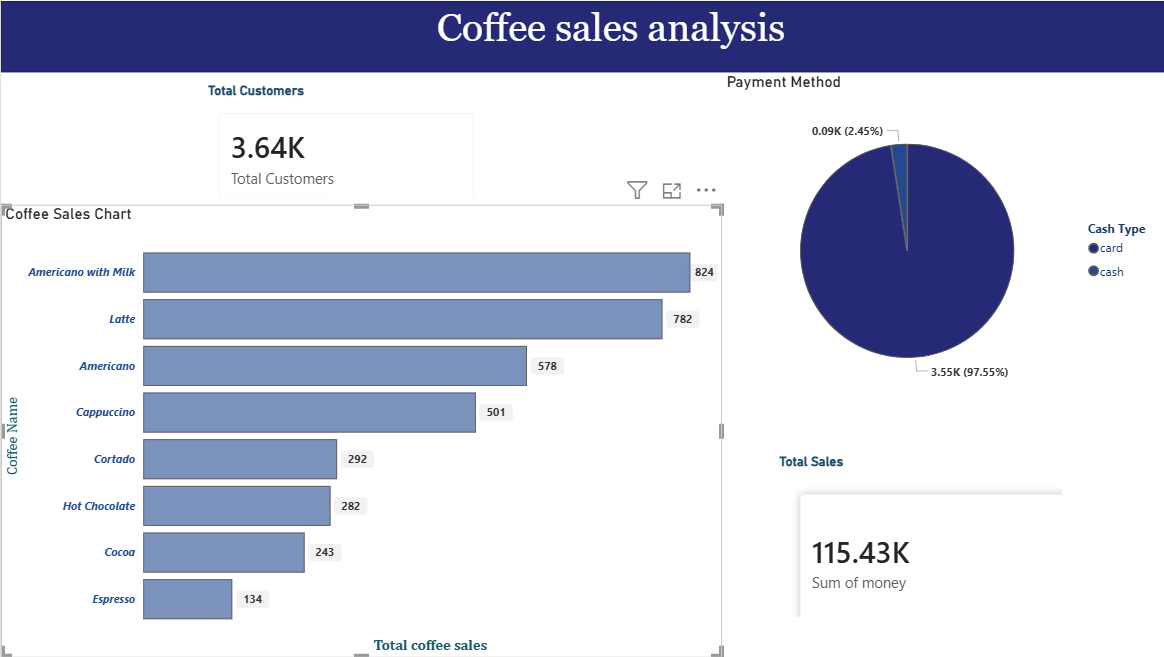

What the dashboard file says about the page in this screenshot:
{"tool":"powerbi","page":{"name":"Page 1","canvas":[1280,720],"ordinal":0},"visuals":[{"type":"cardVisual","title":"Total Customers","fields":{"Data":["coffee shop data.Total Customers"]},"box":[222.3,89.2,314.2,145.5],"z":0},{"type":"clusteredBarChart","title":"Coffee Sales Chart","fields":{"Category":["coffee shop data.coffee_name"],"Y":["CountNonNull(coffee shop data.coffee_name)"]},"box":[0,223.7,791.8,496.7],"z":1000},{"type":"pieChart","title":"Payment Method","fields":{"Category":["coffee shop data.cash_type"],"Y":["CountNonNull(coffee shop data.cash_type)"]},"box":[791.8,78.2,488.5,373.2],"z":2000},{"type":"cardVisual","title":"Total Sales","fields":{"Data":["Sum(coffee shop data.money)"]},"box":[849.4,496.7,332.1,196.2],"z":3000},{"type":"shape","box":[0,0,1280.3,78.2],"z":4000},{"type":"textbox","box":[396.6,0,546.1,78.2],"z":5000}]}

Visuals, with their boxes in screenshot pixels (x1, y1, x2, y2), scaled from the page's 1280x720 canvas onto the 1164x657 screenshot:
"Total Customers" cardVisual: crop(202, 81, 488, 214)
"Coffee Sales Chart" clusteredBarChart: crop(0, 204, 720, 656)
"Payment Method" pieChart: crop(720, 71, 1163, 412)
"Total Sales" cardVisual: crop(772, 453, 1074, 632)
shape: crop(0, 0, 1163, 71)
textbox: crop(361, 0, 857, 71)
